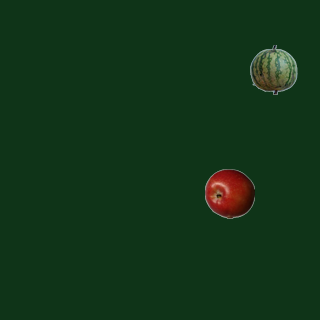Apple Braeburn: (204, 168, 254, 218)
Watermelon: (248, 44, 298, 94)
